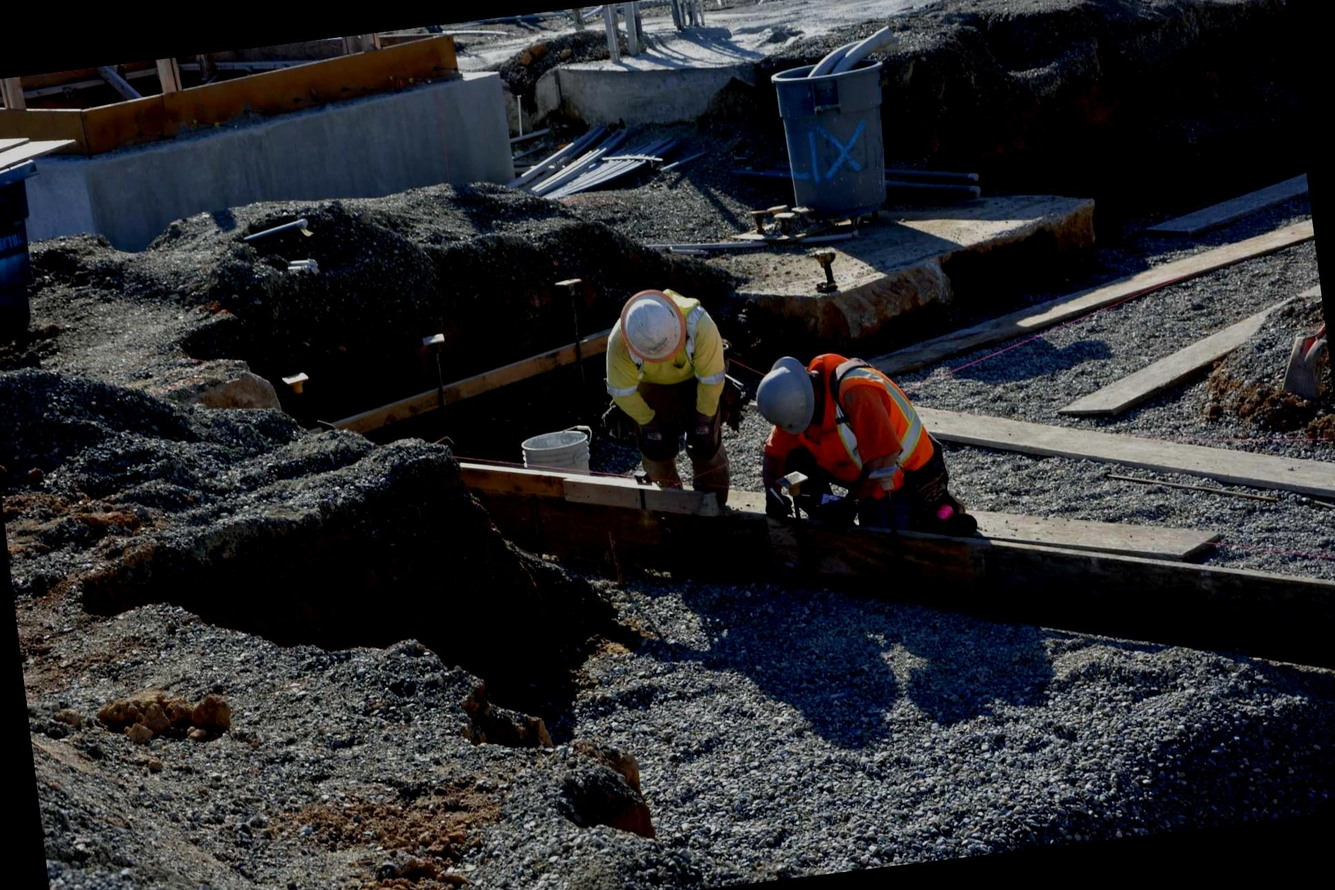helmet: (750, 354, 818, 443), (613, 293, 686, 364)
person: (744, 330, 959, 563), (586, 264, 742, 533)
